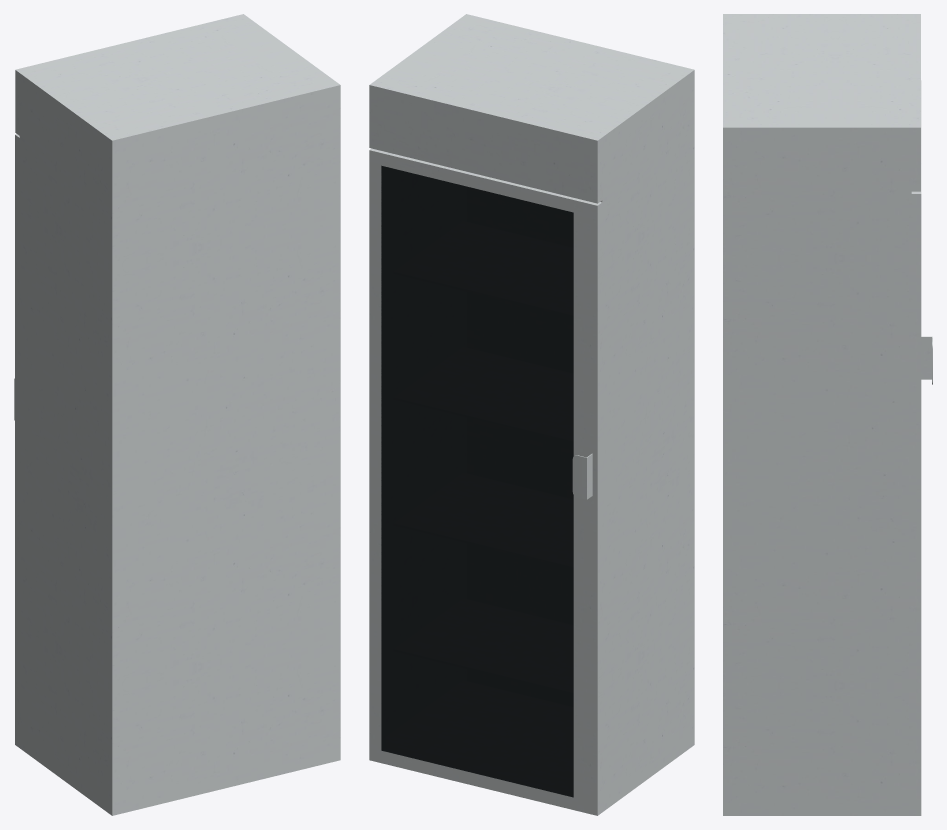
The model's file is SM_解剖房_储物柜_01.fbx.
3 renders of one model, left to right at view 1: azimuth 30°, elevation 25°; view 2: azimuth 150°, elevation 25°; view 3: azimuth 270°, elevation 25°, orthographic.
Visible parts, largest first — view 1: SM_解剖房_储物柜_01; view 2: SM_解剖房_储物柜_01; view 3: SM_解剖房_储物柜_01.
Boxes of the visible parts, x1=… form: SM_解剖房_储物柜_01: x1=14, y1=14, x2=340, y2=815; SM_解剖房_储物柜_01: x1=369, y1=14, x2=694, y2=815; SM_解剖房_储物柜_01: x1=723, y1=14, x2=932, y2=815.
Bounding box in the file's own units: 570 × 1610 × 445.
